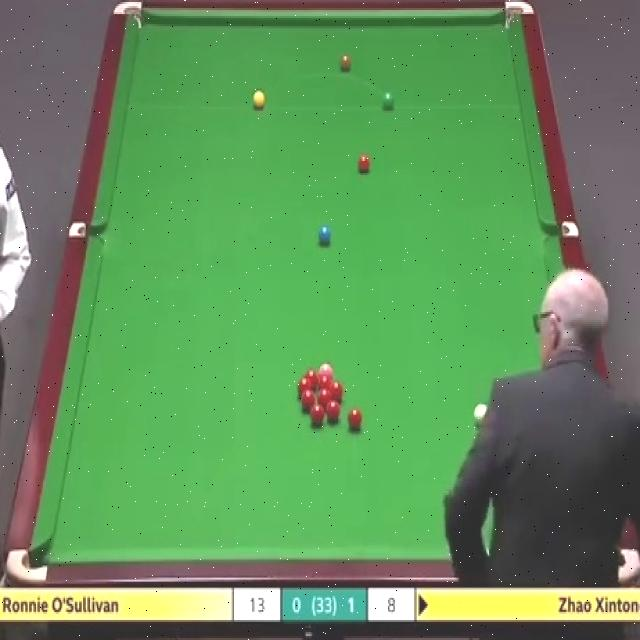blue-ball: (318, 223, 331, 247)
brown-ball: (338, 54, 352, 74)
green-ball: (381, 89, 394, 111)
pink-ball: (319, 362, 333, 380)
red-ball: (356, 152, 371, 175), (310, 405, 324, 428), (348, 407, 362, 429), (318, 386, 332, 408), (326, 400, 340, 422), (298, 376, 312, 396), (331, 382, 345, 401), (301, 390, 314, 410), (306, 369, 317, 390), (318, 378, 331, 388)
white-ball: (473, 403, 485, 424)
yellow-ball: (252, 90, 264, 109)
